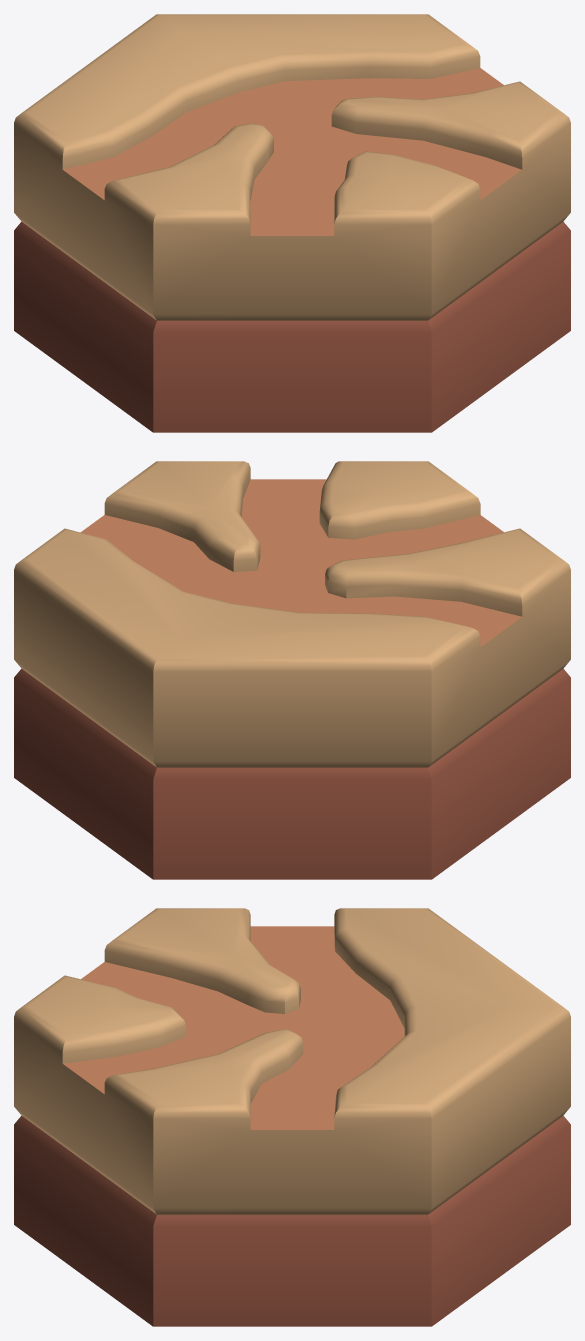
The model's file is kaykit-hex-sand-roadk-detail.glb.
The picture shows the model from 3 angles, top to bottom: view 1: azimuth 30°, elevation 25°; view 2: azimuth 150°, elevation 25°; view 3: azimuth 270°, elevation 25°; orthographic projection.
Visible parts, largest first — view 1: hex_sand_roadK_detail; view 2: hex_sand_roadK_detail; view 3: hex_sand_roadK_detail.
Part boxes in pixels (bbox=[...]): hex_sand_roadK_detail: bbox=[14, 14, 570, 432]; hex_sand_roadK_detail: bbox=[14, 461, 570, 879]; hex_sand_roadK_detail: bbox=[14, 908, 570, 1326].
Size of the model in its own units: 2 by 1 by 2.31.
